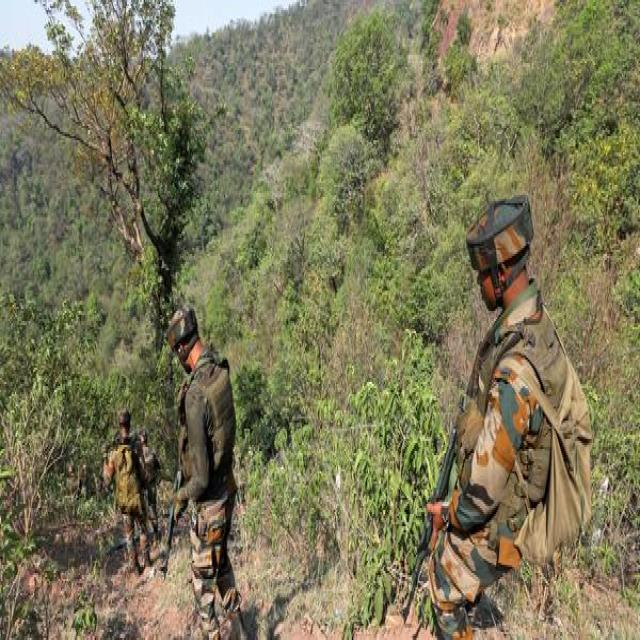Forest: (0, 0, 640, 640)
Militant: (422, 190, 612, 640), (162, 272, 268, 640), (79, 390, 172, 601)
